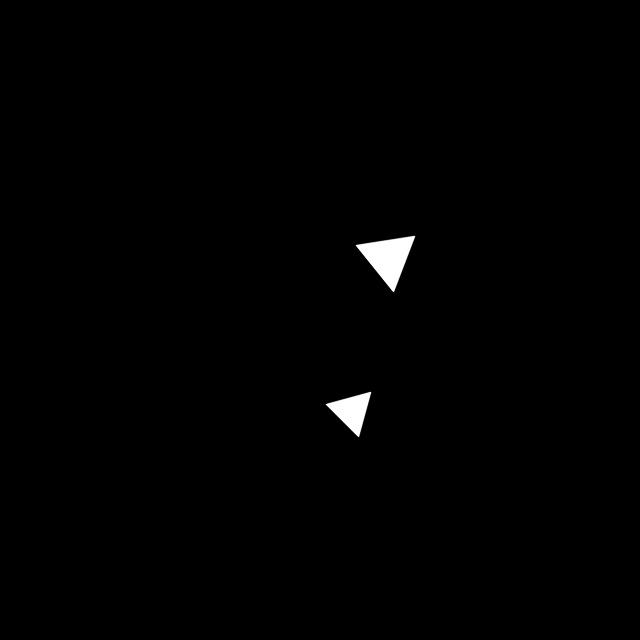Triangle: (347, 214, 430, 302), (316, 380, 382, 446)
